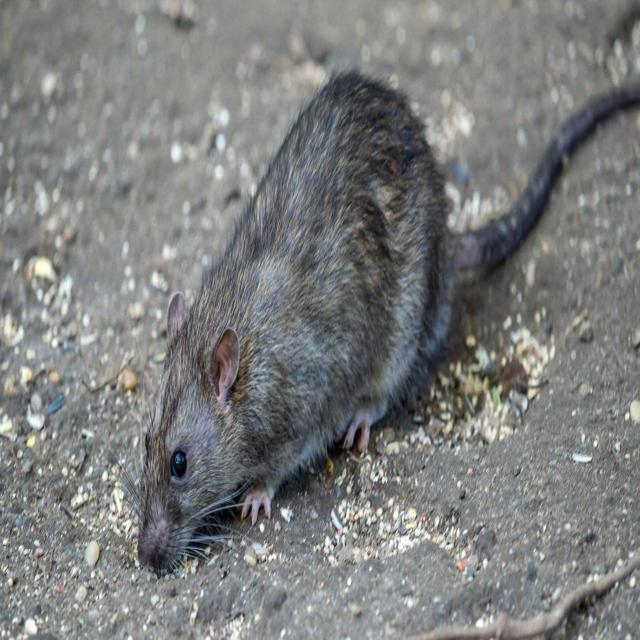rat: (130, 54, 629, 578)
